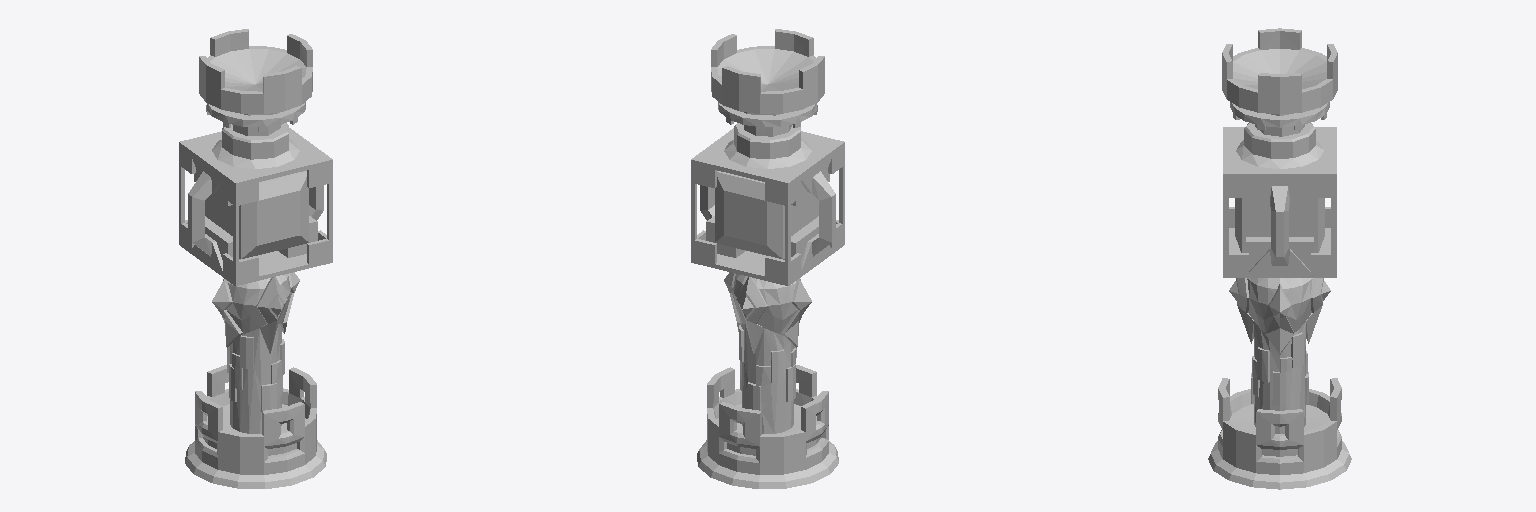
The model's file is god.obj.
3 views of the same model, side by side, from view 1: azimuth 30°, elevation 25°; view 2: azimuth 150°, elevation 25°; view 3: azimuth 270°, elevation 25° (orthographic).
Parts seen in each view (by area): view 1: 1, 2; view 2: 1, 2; view 3: 1, 2.
Boxes of the visible parts, x1=… form: 1: x1=179, y1=29, x2=332, y2=488; 2: x1=205, y1=112, x2=308, y2=433; 1: x1=691, y1=29, x2=844, y2=488; 2: x1=715, y1=112, x2=818, y2=433; 1: x1=1208, y1=28, x2=1351, y2=489; 2: x1=1229, y1=113, x2=1330, y2=433.
Size of the model in its own units: 0.8156 by 2.4 by 0.7731.